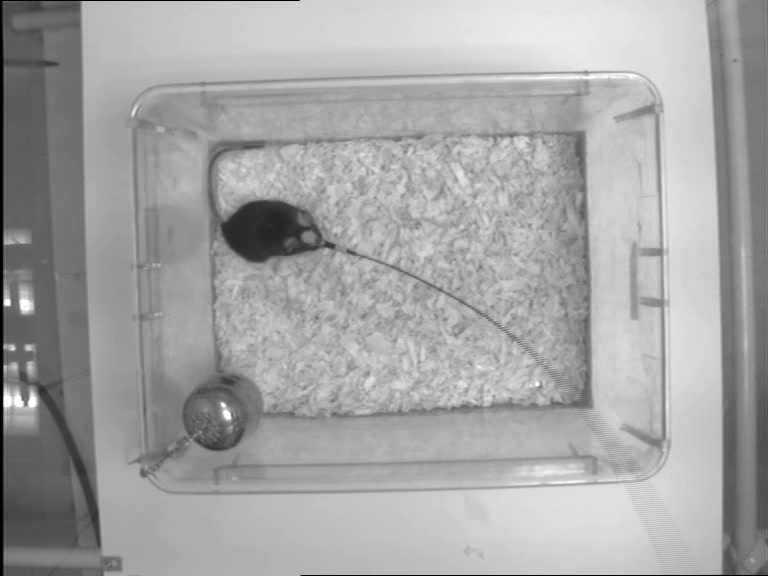mice: (206, 139, 334, 262)
